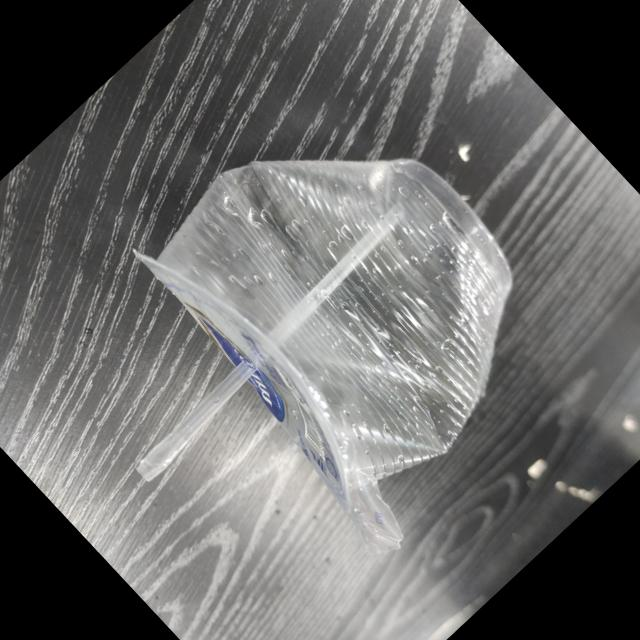GelasPlastik: (108, 59, 610, 566)
